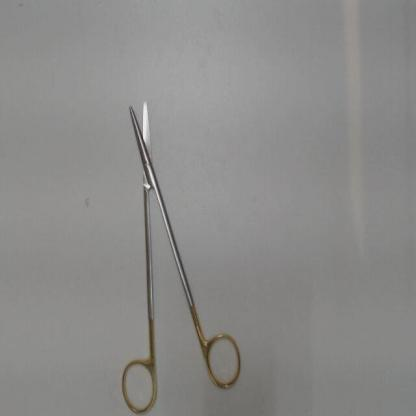7 Metzenbaum Scissors: (120, 101, 243, 414)
